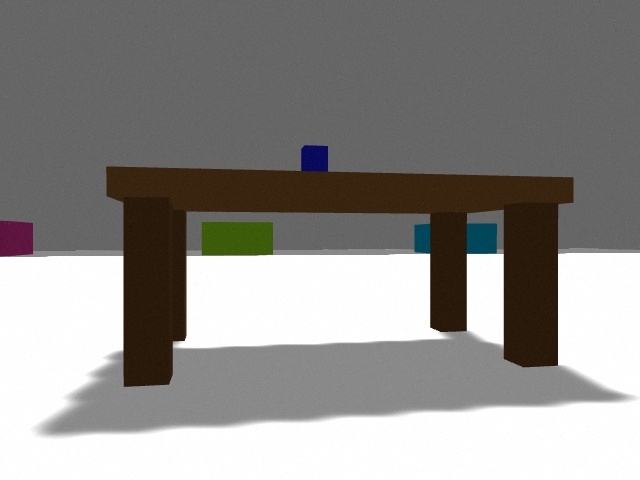blue_cube: (301, 145, 328, 171)
blue_drop_zone: (467, 223, 497, 254), (414, 224, 430, 253)
green_drop_zone: (202, 222, 273, 255)
red_drop_zone: (0, 221, 33, 257)
